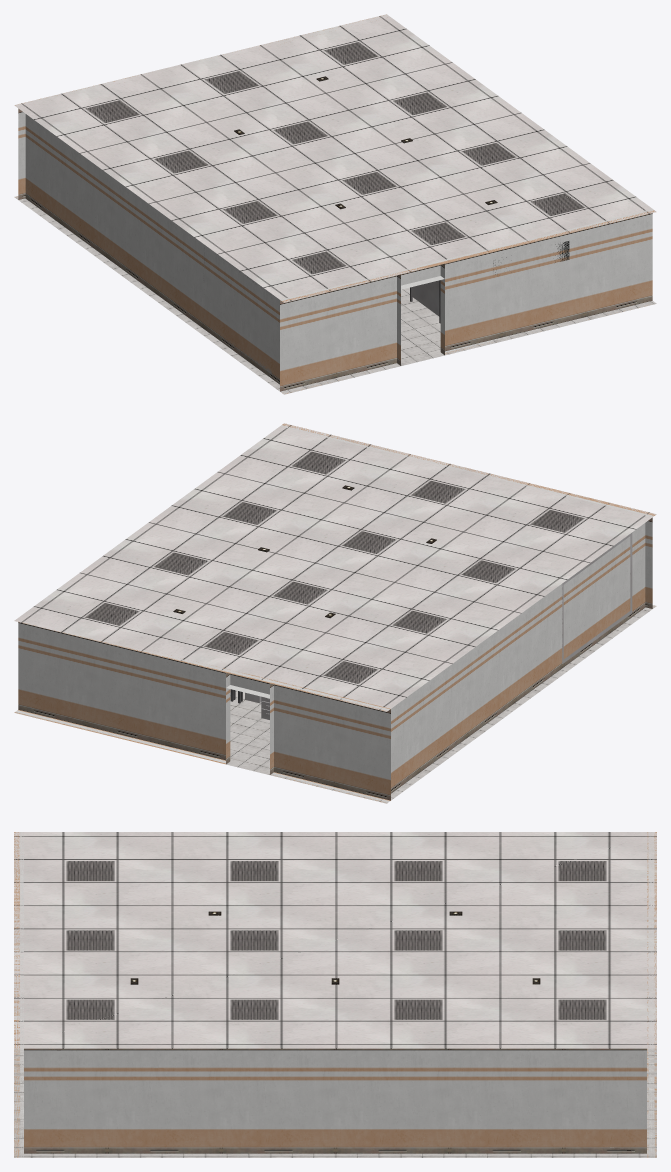
The model's file is RZ_room2_offices.obj.
3 renders of one model, top to bottom at view 1: azimuth 30°, elevation 25°; view 2: azimuth 150°, elevation 25°; view 3: azimuth 270°, elevation 25°, orthographic. The views are drawn at different scales.
Parts seen in each view (by area): view 1: RZ_room2_offices; view 2: RZ_room2_offices; view 3: RZ_room2_offices.
Boxes of the visible parts, bbox=[...] form: RZ_room2_offices: bbox=[14, 14, 656, 394]; RZ_room2_offices: bbox=[14, 423, 656, 803]; RZ_room2_offices: bbox=[14, 832, 656, 1157].
Size of the model in its own units: 16.32 by 3.87 by 20.48.
